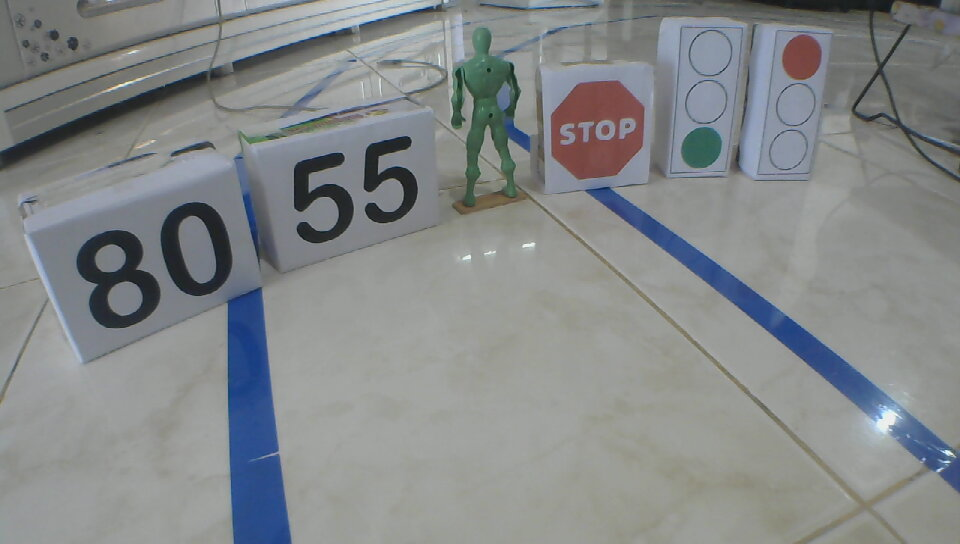Green Light: (682, 29, 734, 169)
Person: (444, 27, 526, 210)
Red Light: (766, 35, 824, 173)
Speed 55: (289, 136, 420, 245)
Speed 80: (70, 200, 235, 334)
Stop: (550, 79, 647, 183)
